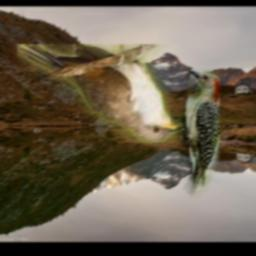Cuckoo: (18, 45, 186, 144)
Woodpecker: (171, 69, 221, 198)
